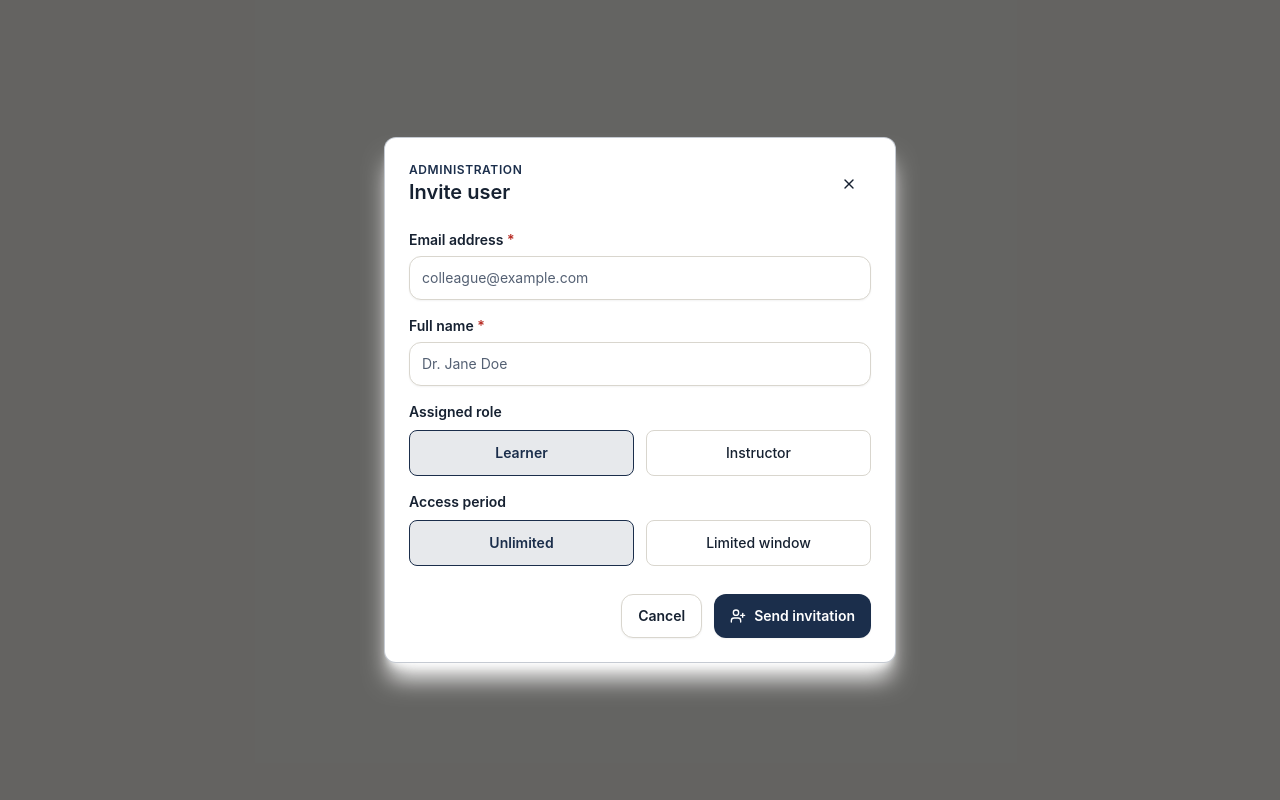
Scenario: InviteUserDialog › toggles limited-access window fields when selected
Expected: the field labelled "Access expiry" is not shown
Click the radio button labelled "Limited window". click: (758,543)
box: [646,520,871,566]
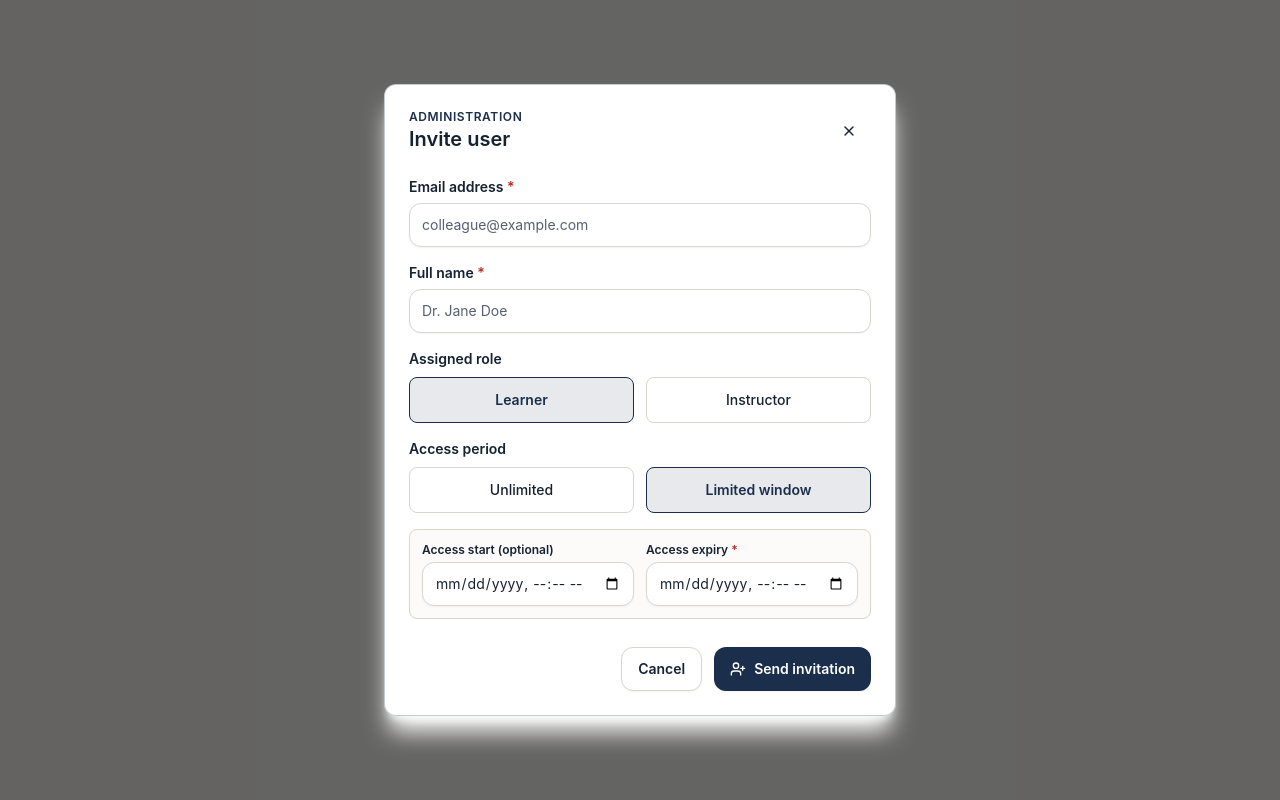
Expected: the field labelled "Access start (optional)" is shown, [422,562,634,606]
Expected: the field labelled "Access expiry *" is shown, [646,562,858,606]
